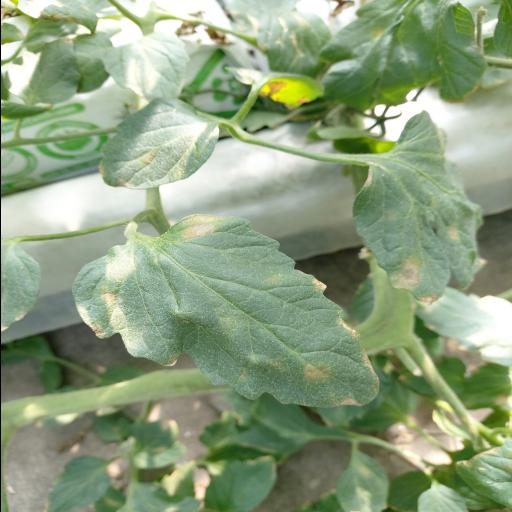Leaf Mold: (70, 214, 380, 407), (349, 109, 483, 305), (98, 102, 222, 191)
